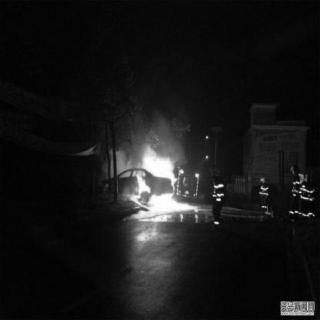Fire: (127, 142, 187, 218)
Smoke: (156, 109, 178, 141)
other: (288, 160, 314, 221), (258, 174, 272, 218), (208, 179, 226, 200), (193, 204, 201, 224), (193, 170, 203, 183), (180, 165, 184, 178)
